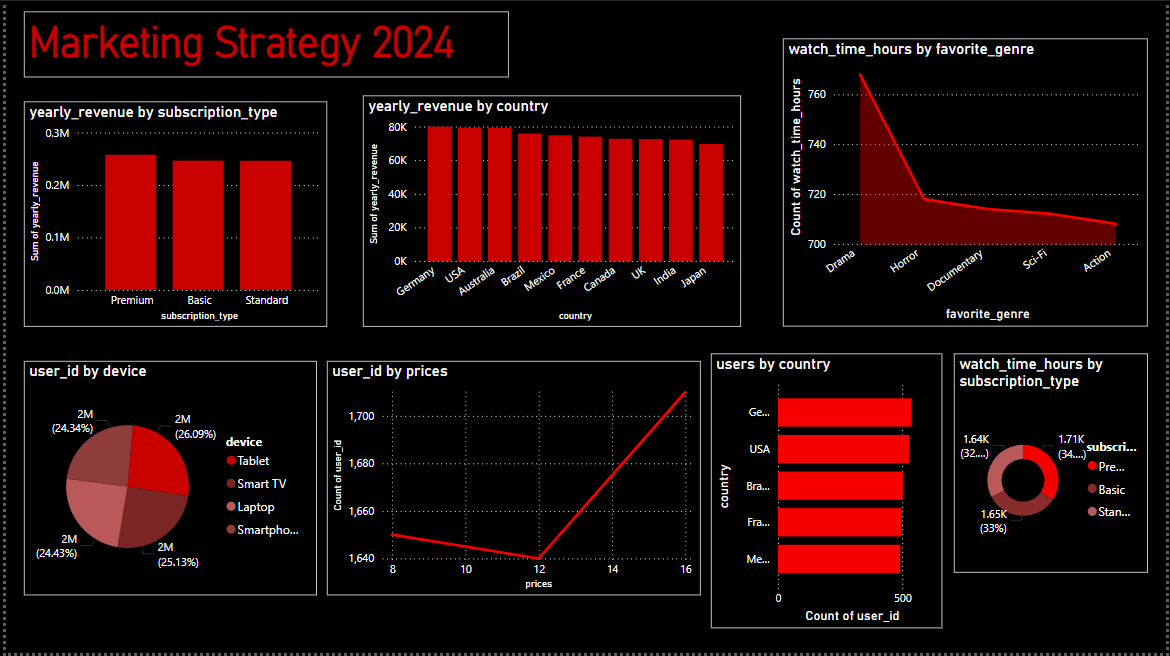

Layout of this report page (visuals, bound fields, positions):
{"tool":"powerbi","page":{"name":"Page 4","canvas":[1280,720],"ordinal":3},"visuals":[{"type":"barChart","title":"users by country","fields":{"Y":["CountNonNull(Netflix_Final.user_id)"],"Category":["Netflix_Final.country"]},"box":[778.5,389.3,255.1,303.1],"z":0},{"type":"columnChart","title":"yearly_revenue by subscription_type","fields":{"Category":["Netflix_Final.subscription_type"],"Y":["Sum(Netflix_Final.yearly_revenue)"]},"box":[19.9,111,334.6,248.5],"z":1000},{"type":"pieChart","title":"user_id by device","fields":{"Category":["Netflix_Final.device"],"Y":["Sum(Netflix_Final.user_id)"]},"box":[19.9,397.6,323,258.4],"z":2000},{"type":"textbox","box":[19.9,11.6,535,72.9],"z":3000},{"type":"areaChart","title":" watch_time_hours by favorite_genre","fields":{"Category":["Netflix_Final.favorite_genre"],"Y":["CountNonNull(Netflix_Final.watch_time_hours)"]},"box":[858.1,41.4,402.5,318],"z":4000},{"type":"donutChart","title":" watch_time_hours by subscription_type","fields":{"Category":["Netflix_Final.subscription_type"],"Y":["CountNonNull(Netflix_Final.watch_time_hours)"]},"box":[1046.9,389.3,213.7,241.8],"z":5000},{"type":"columnChart","title":"yearly_revenue by country","fields":{"Category":["Netflix_Final.country"],"Y":["Sum(Netflix_Final.yearly_revenue)"]},"box":[394.2,104.4,417.4,255.1],"z":6000},{"type":"lineChart","title":"user_id by prices","fields":{"Category":["Netflix_Final.prices"],"Y":["CountNonNull(Netflix_Final.user_id)"]},"box":[354.5,397.6,412.5,258.4],"z":7000}]}

Visuals, with their boxes in screenshot pixels (x1, y1, x2, y2), scaled from the page's 1280x720 canvas onto the 1170x656 screenshot:
"users by country" barChart: [712,355,945,631]
"yearly_revenue by subscription_type" columnChart: [18,101,324,328]
"user_id by device" pieChart: [18,362,313,598]
textbox: [18,11,507,77]
" watch_time_hours by favorite_genre" areaChart: [784,38,1152,327]
" watch_time_hours by subscription_type" donutChart: [957,355,1152,575]
"yearly_revenue by country" columnChart: [360,95,742,328]
"user_id by prices" lineChart: [324,362,701,598]
